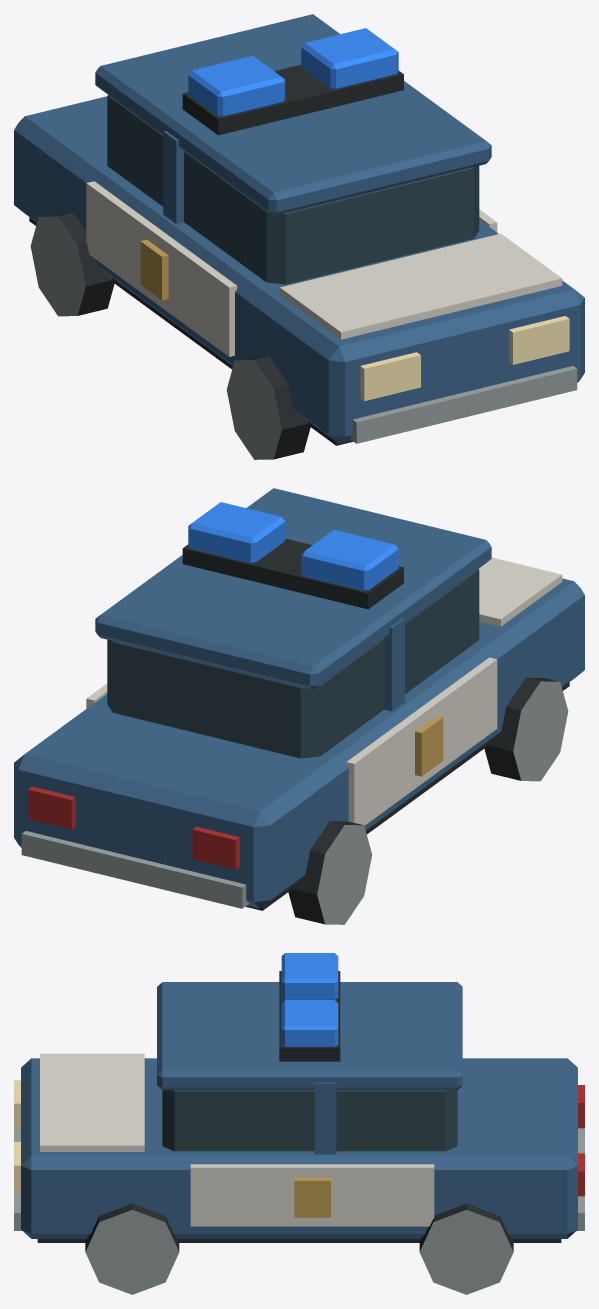
Rendered from VEH_POLICE.glb.
3 renders of one model, top to bottom at view 1: azimuth 30°, elevation 25°; view 2: azimuth 150°, elevation 25°; view 3: azimuth 270°, elevation 25°, orthographic. The views are drawn at different scales.
Parts seen in each view (by area): view 1: Body, Wheel_FL, Wheel_RL, Beacon_R, Beacon_L; view 2: Body, Wheel_RL, Wheel_FL, Beacon_R, Beacon_L; view 3: Body, Wheel_FR, Wheel_RR, Beacon_L, Beacon_R.
Boxes of the visible parts, x1=… form: Body: x1=14, y1=14, x2=584, y2=445; Wheel_FL: x1=226, y1=356, x2=310, y2=459; Wheel_RL: x1=30, y1=212, x2=114, y2=316; Beacon_R: x1=301, y1=28, x2=398, y2=89; Beacon_L: x1=188, y1=55, x2=285, y2=116; Body: x1=14, y1=488, x2=584, y2=910; Wheel_RL: x1=288, y1=821, x2=372, y2=924; Wheel_FL: x1=484, y1=677, x2=568, y2=781; Beacon_R: x1=188, y1=502, x2=285, y2=563; Beacon_L: x1=301, y1=529, x2=398, y2=590; Body: x1=14, y1=971, x2=584, y2=1242; Wheel_FR: x1=85, y1=1203, x2=179, y2=1294; Wheel_RR: x1=419, y1=1203, x2=513, y2=1294; Beacon_L: x1=281, y1=953, x2=338, y2=999; Beacon_R: x1=281, y1=1000, x2=338, y2=1046.
Bounding box in the file's own units: 0.324 × 0.312 × 0.656.
